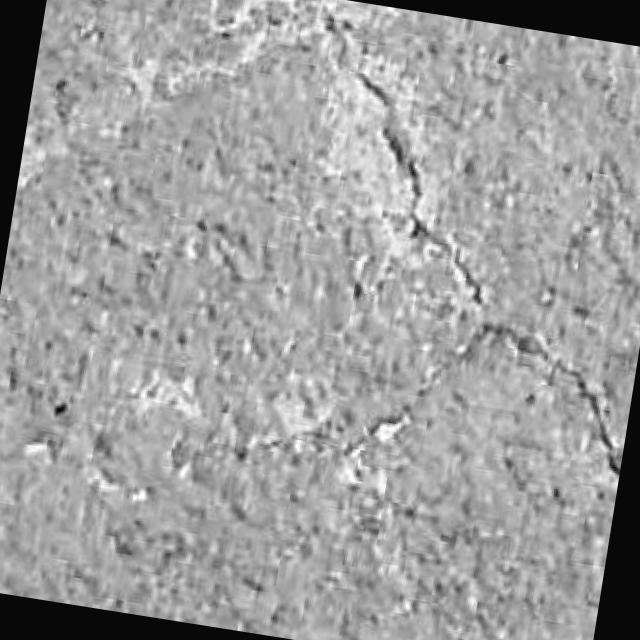crack: (418, 321, 622, 475), (356, 71, 485, 308), (473, 321, 621, 475)
